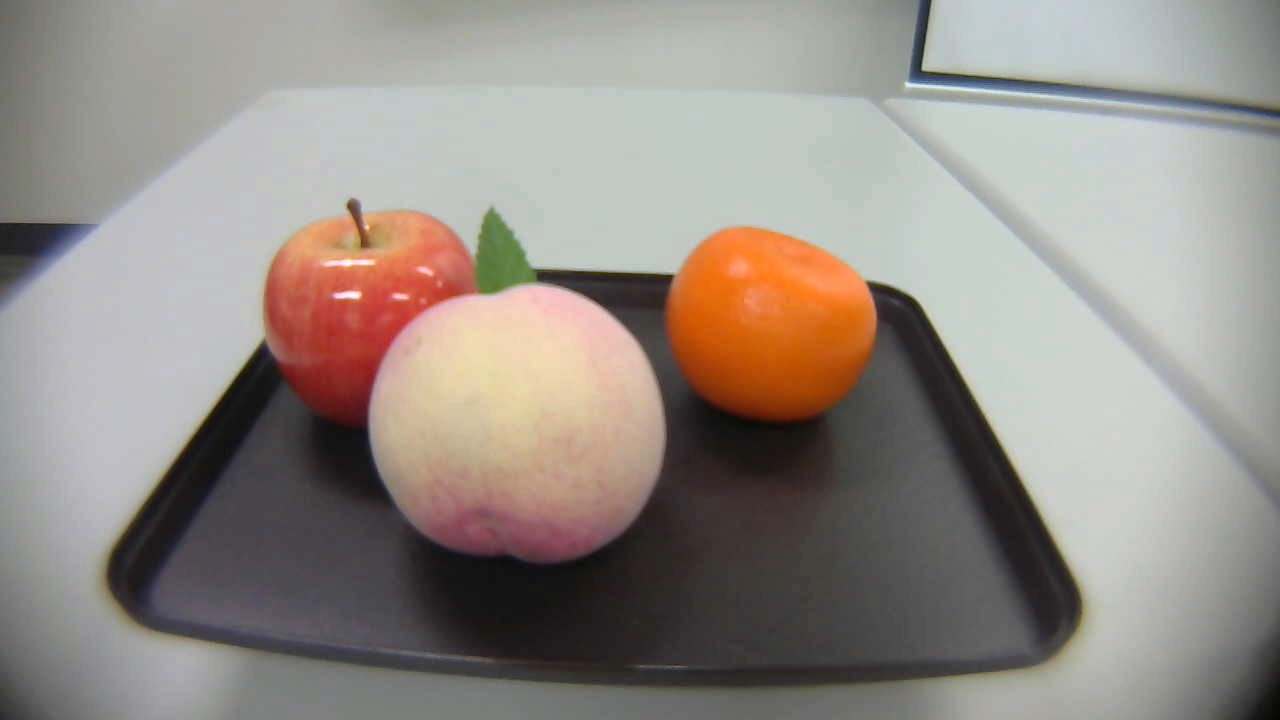orange: (667, 216, 876, 430)
peach: (355, 205, 678, 577)
red apple: (249, 198, 486, 426)
